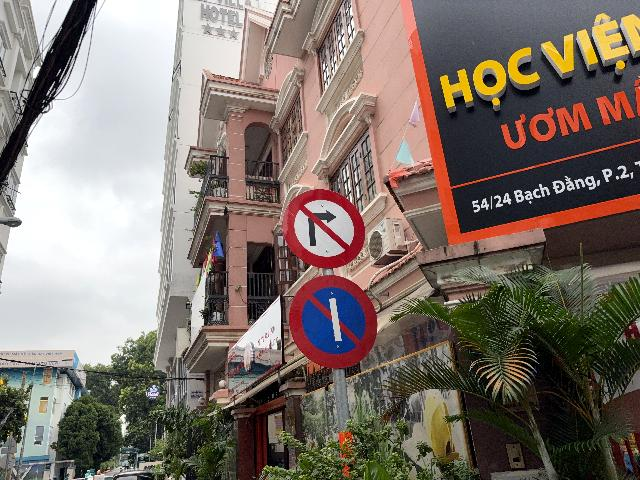cam-do-xe-ngay-le: (288, 274, 379, 369)
cam-re-phai: (282, 188, 366, 270)
